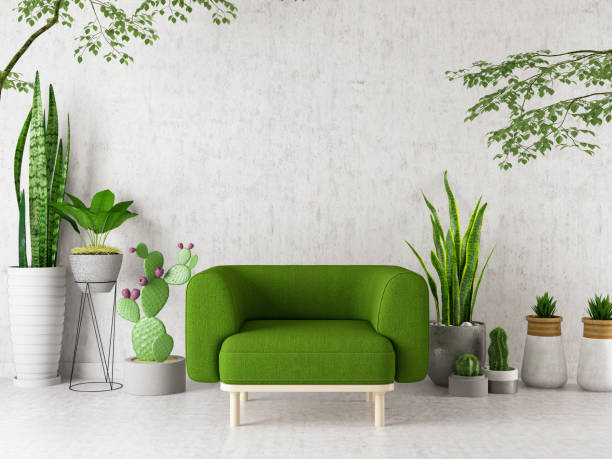large plant: (6, 71, 66, 391), (424, 170, 488, 386), (119, 240, 192, 402)
small plant: (56, 189, 131, 294), (486, 326, 520, 396), (447, 354, 488, 397), (525, 291, 564, 336), (579, 292, 612, 338)
sofa: (182, 260, 433, 432)
